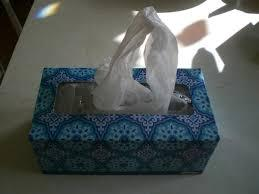Cellulose: (100, 5, 182, 117)
